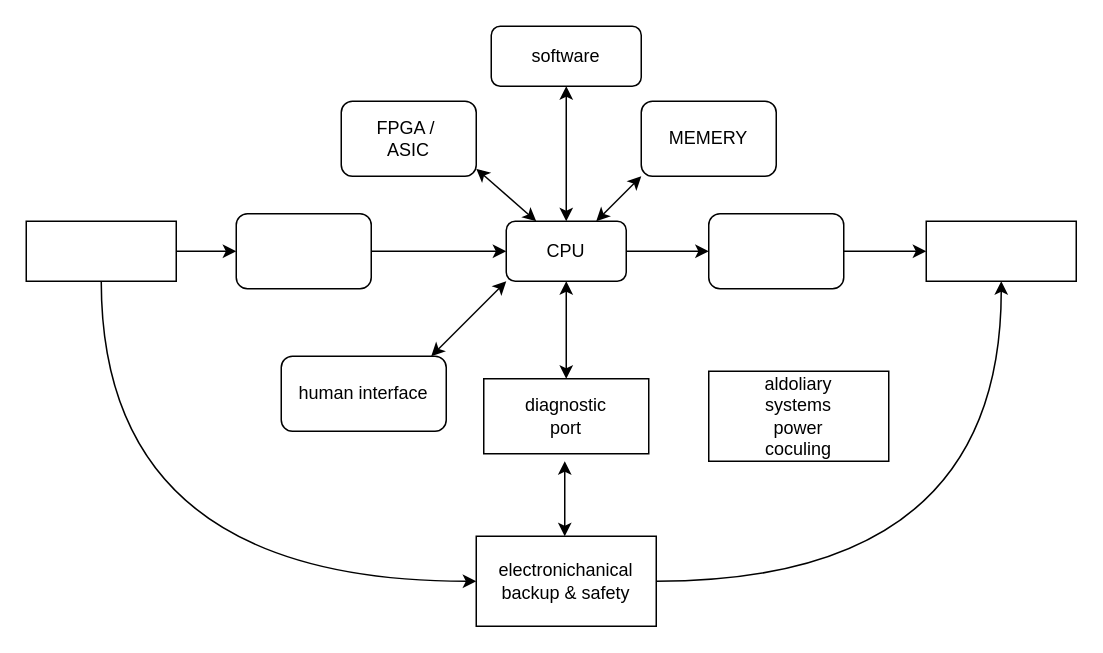
This 1103x653 diagram has some shape labels left out. Here are the shapes that lost their labels. From the top down, the box of each, then its label:
(25, 220, 176, 281): sensors
(235, 212, 371, 289): AD conversion
(707, 212, 844, 289): DA conversion
(925, 220, 1076, 281): actuators
